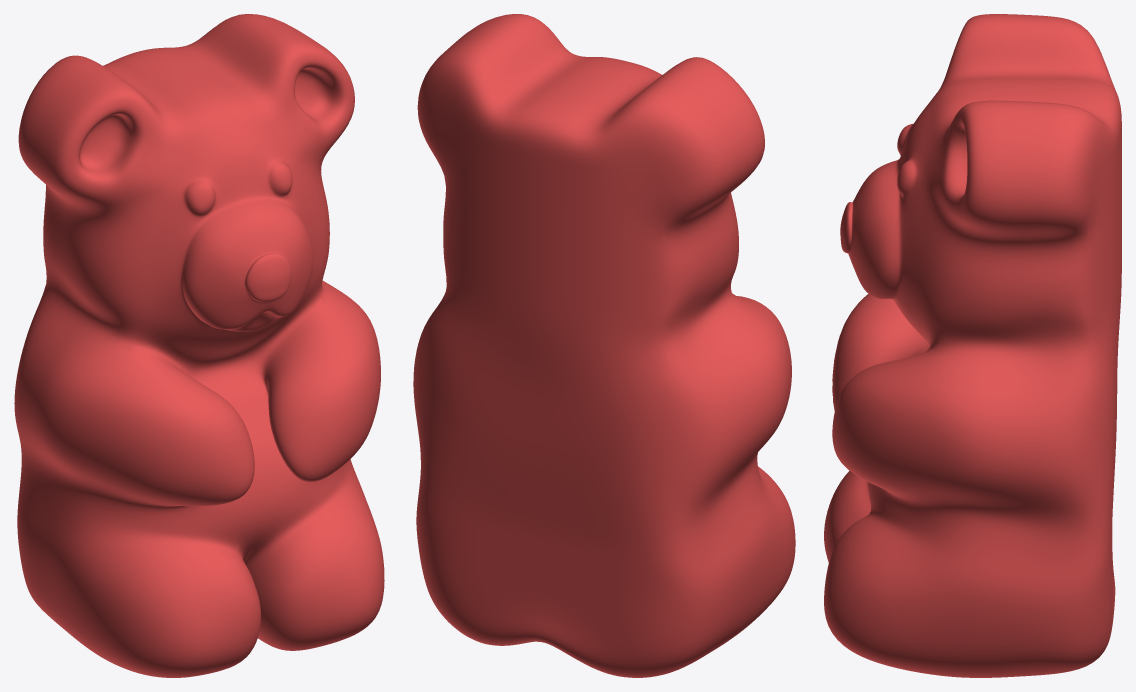
Rendered from gummy_bear.glb.
3 views of the same model, side by side, from view 1: azimuth 30°, elevation 25°; view 2: azimuth 150°, elevation 25°; view 3: azimuth 270°, elevation 25° (orthographic). The views are drawn at different scales.
Visible parts, largest first — view 1: orsetto; view 2: orsetto; view 3: orsetto.
Boxes of the visible parts, bbox=[...] form: orsetto: bbox=[14, 14, 384, 677]; orsetto: bbox=[413, 14, 795, 677]; orsetto: bbox=[824, 14, 1121, 677].
Size of the model in its own units: 0.9267 by 1.57 by 0.738.
